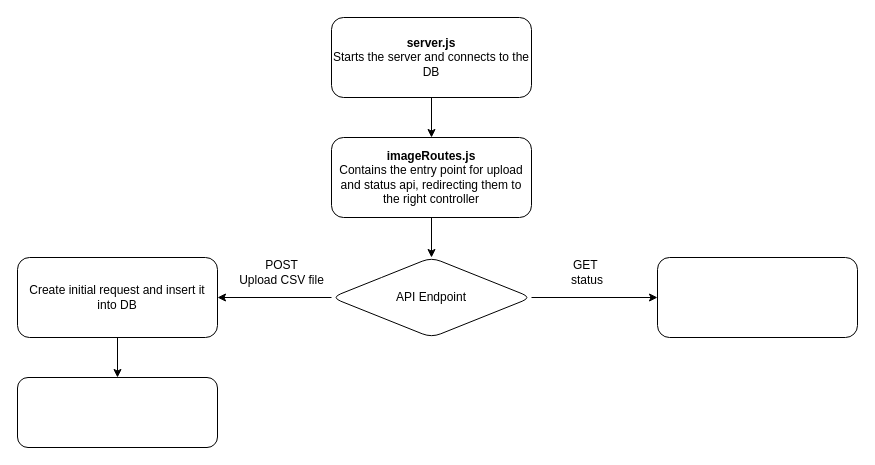
This 875x465 diagram has some shape labels left out. Here are the shapes that lost their labels. From the top down, the centre of each, then its label:
the point at 757,297: Gets the current state of the requestId from DB
the point at 117,412: Add images into image queue, we are using bullMQ
